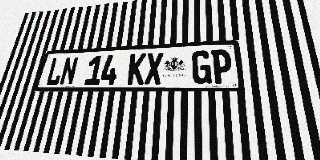1: (84, 55, 104, 85)
4: (100, 55, 119, 85)
G: (192, 50, 212, 84)
K: (127, 53, 146, 85)
L: (45, 57, 65, 86)
N: (59, 56, 79, 85)
P: (211, 49, 233, 84)
X: (144, 52, 163, 85)
